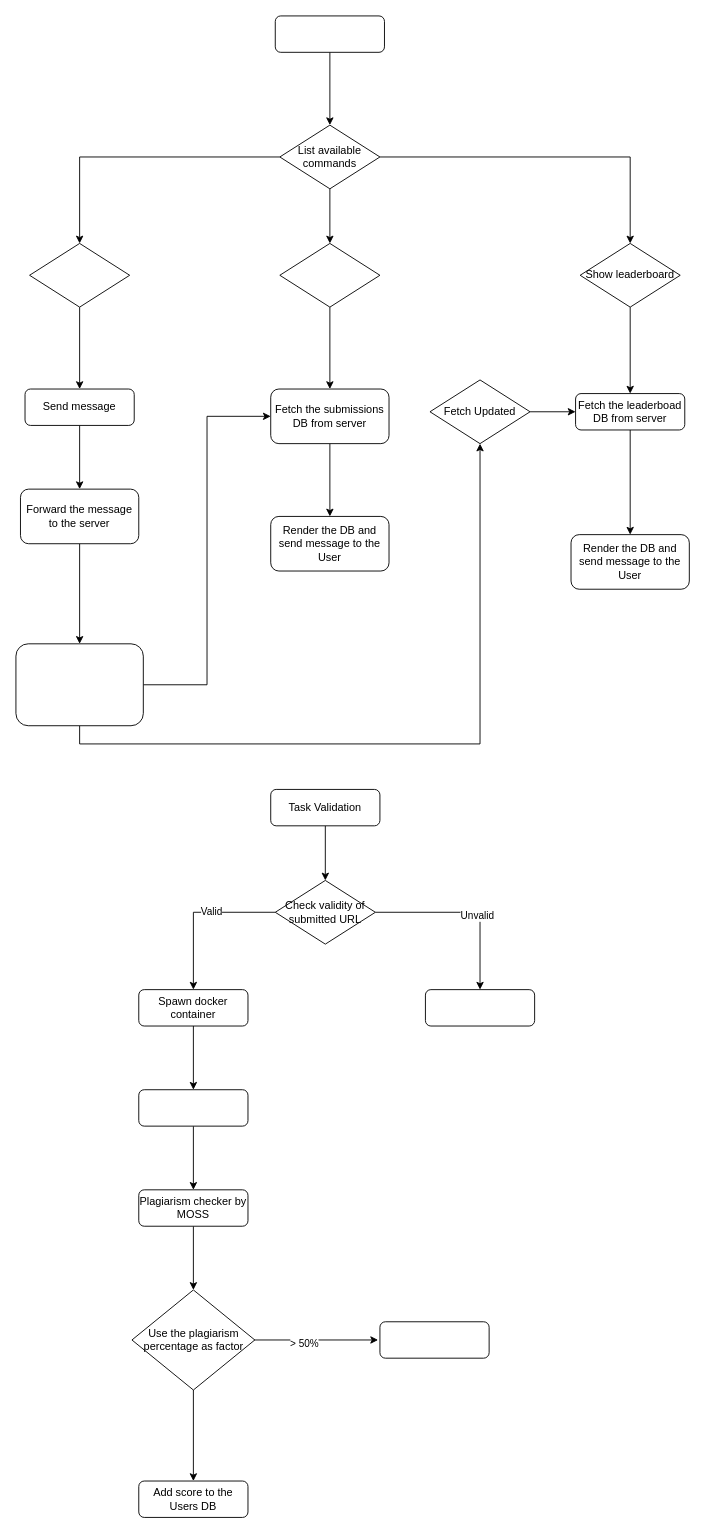
The diagram is 705 pixels wide and 1533 high, and some of its shapes have lost their labels. The shapes that lost their labels are listed below. From the top down, each one's centre as x and y in pixels, then its label:
(329,33): Users
(79,275): Submit task
(329,275): Show submissions
(79,684): Perform task validation and make changes to the leaderboard the submission DB
(480,1007): Alert the user about invalid URL
(193,1107): Copy file to container and perform the task validation
(434,1339): Add score to the Users DB and blacklist
